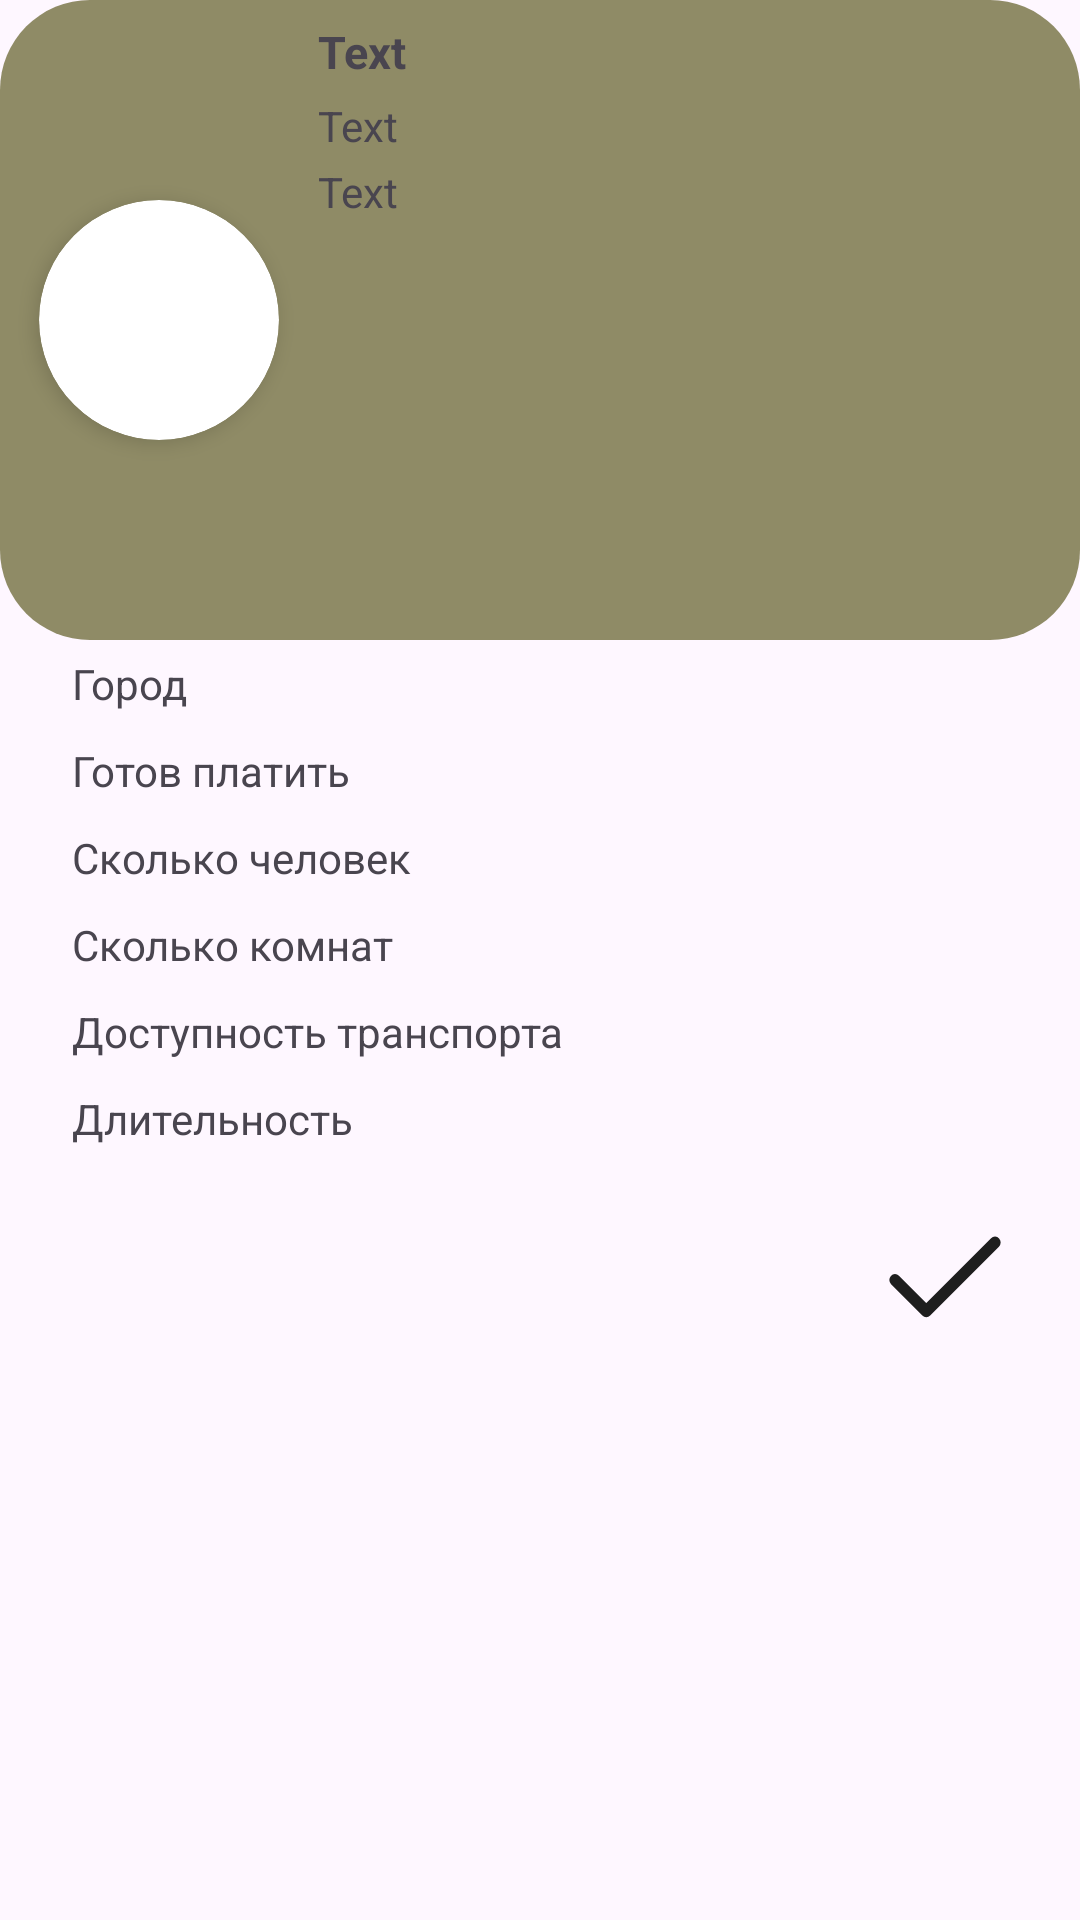

Locate icon controls on the screen. Image size 1080*1920, boxes as bbox(x1, y1, x2, y2).
check checkbox: bbox(889, 1236, 1001, 1318)
